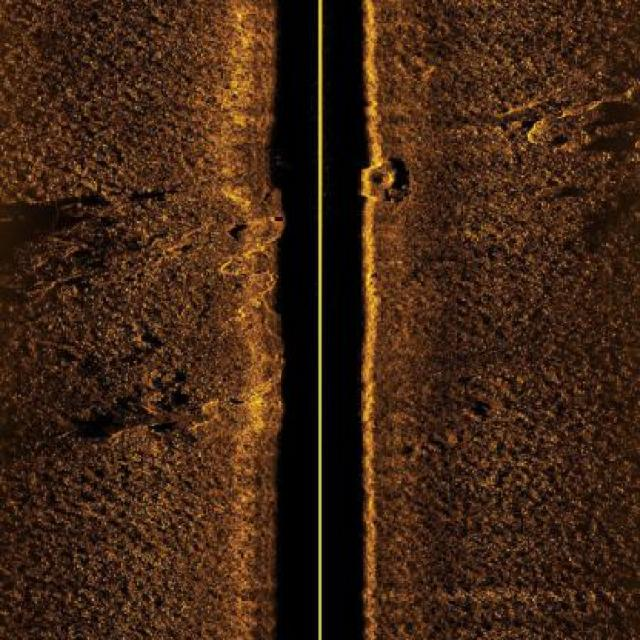other: (363, 154, 405, 208)
